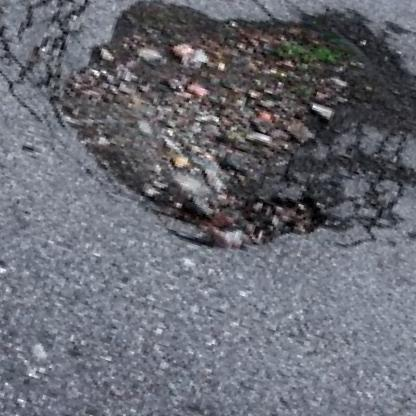pothole: (0, 0, 416, 287)
